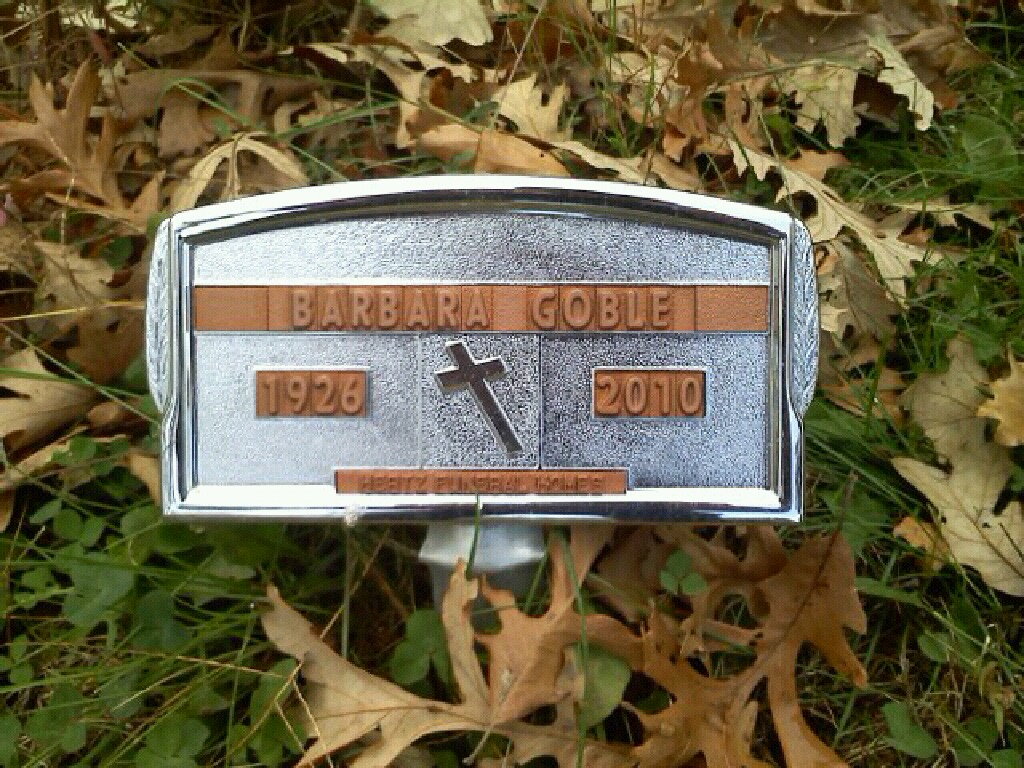plaque: (147, 177, 816, 521)
